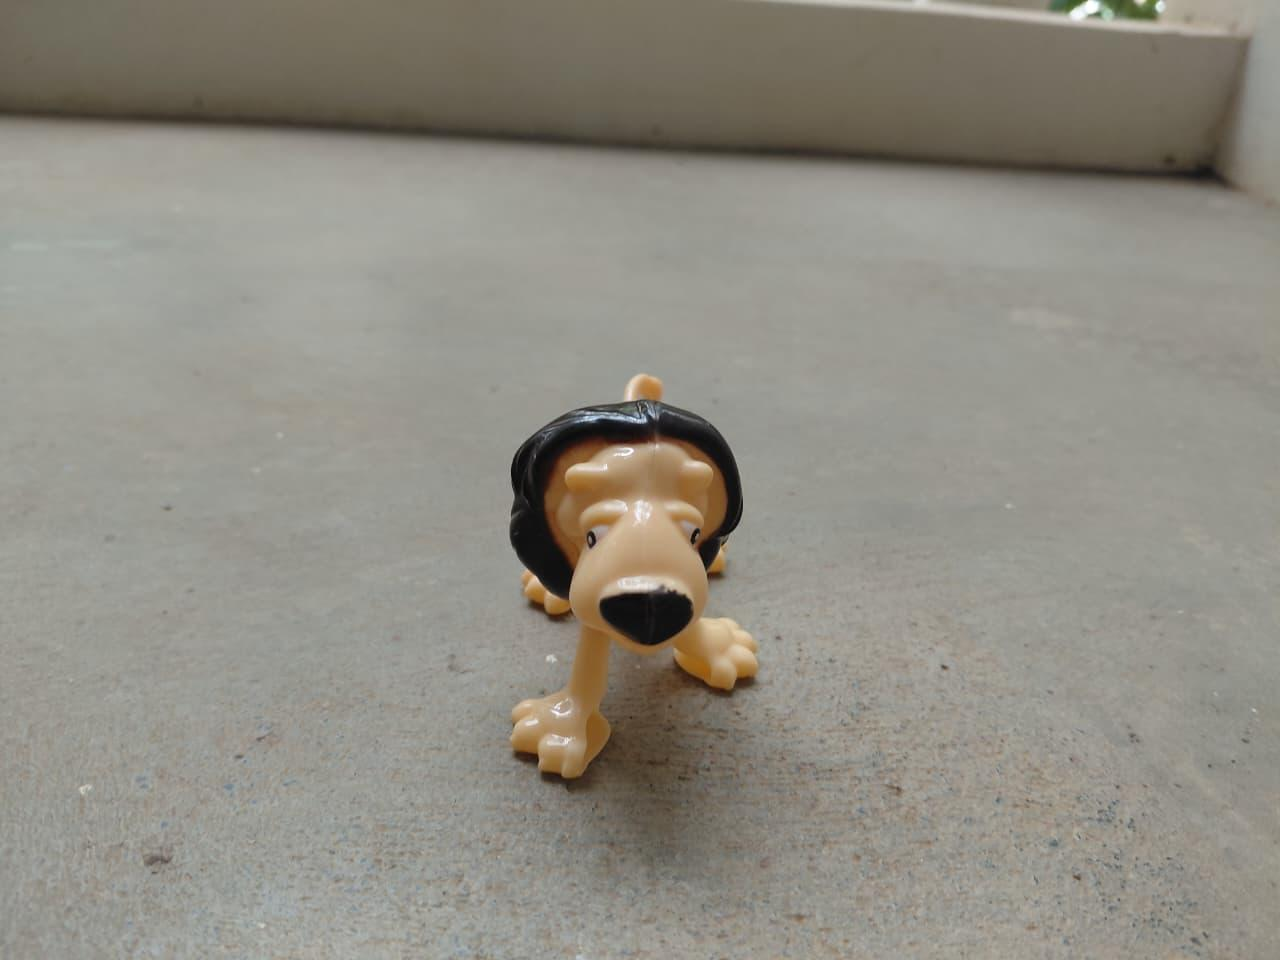lion: (472, 360, 779, 788)
